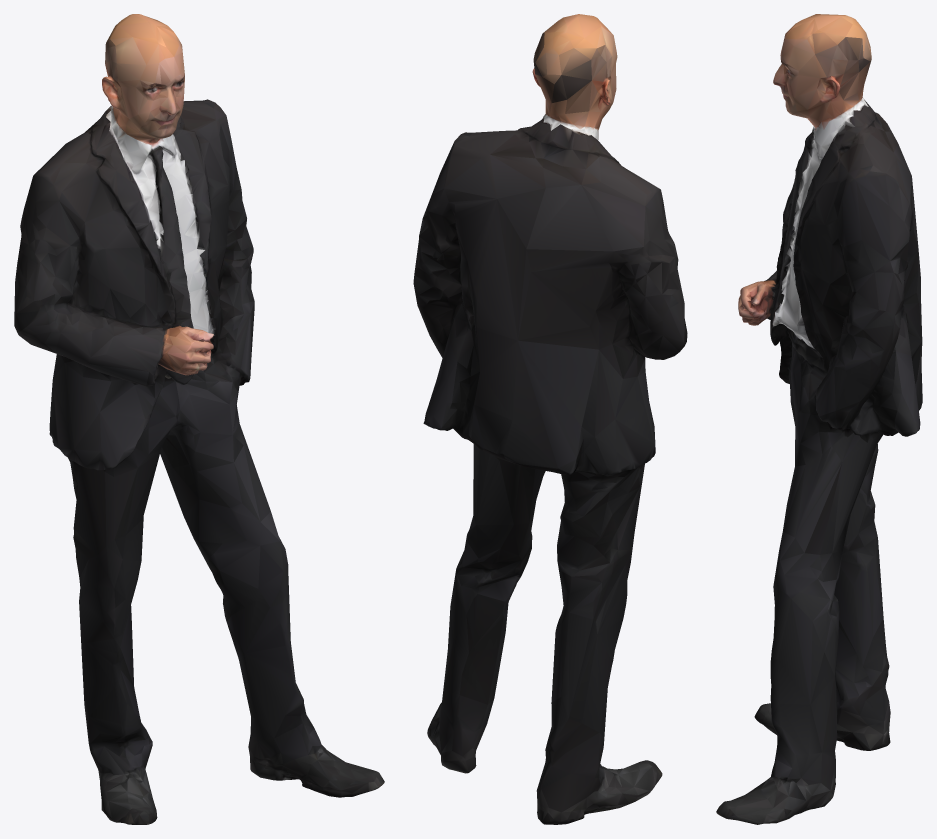
The model's file is ren5.gltf.
3 views of the same model, side by side, from view 1: azimuth 30°, elevation 25°; view 2: azimuth 150°, elevation 25°; view 3: azimuth 270°, elevation 25° (orthographic). The views are drawn at different scales.
Parts seen in each view (by area): view 1: Obj3d66-515503-4-738; view 2: Obj3d66-515503-4-738; view 3: Obj3d66-515503-4-738.
Part boxes in pixels (<box>): Obj3d66-515503-4-738: <box>14,14,384,824</box>; Obj3d66-515503-4-738: <box>413,14,687,824</box>; Obj3d66-515503-4-738: <box>716,14,922,824</box>.
Size of the model in its own units: 7.34 by 17.98 by 4.61.
1 material, 1 textured.
